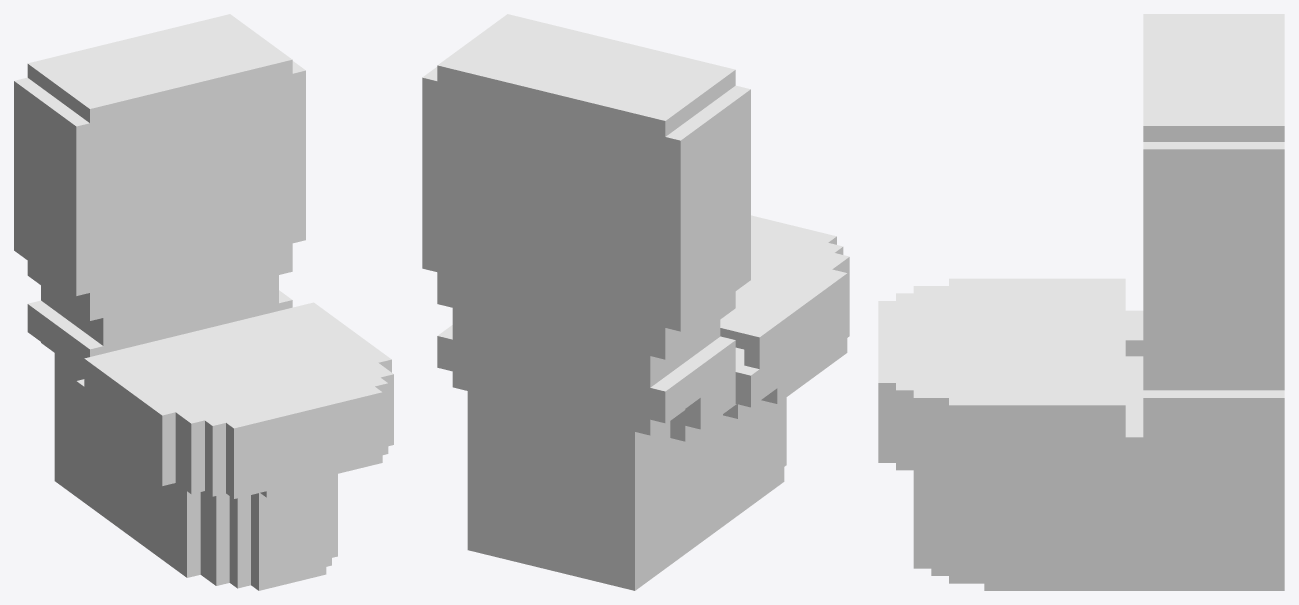
Rendered from Toilet1-2.fbx.
3 views of the same model, side by side, from view 1: azimuth 30°, elevation 25°; view 2: azimuth 150°, elevation 25°; view 3: azimuth 270°, elevation 25° (orthographic). The views are drawn at different scales.
Visible parts, largest first — view 1: Toilet1-2.001, Toilet1-2.000; view 2: Toilet1-2.001, Toilet1-2.000; view 3: Toilet1-2.001, Toilet1-2.000.
Part boxes in pixels (x1,y1,x2,y2): Toilet1-2.001: (14, 14, 393, 590); Toilet1-2.000: (84, 302, 393, 456); Toilet1-2.001: (422, 14, 849, 590); Toilet1-2.000: (720, 215, 849, 368); Toilet1-2.001: (878, 14, 1284, 590); Toilet1-2.000: (878, 278, 1125, 437).
Bounding box in the file's own units: 1.7 × 3 × 2.3.
